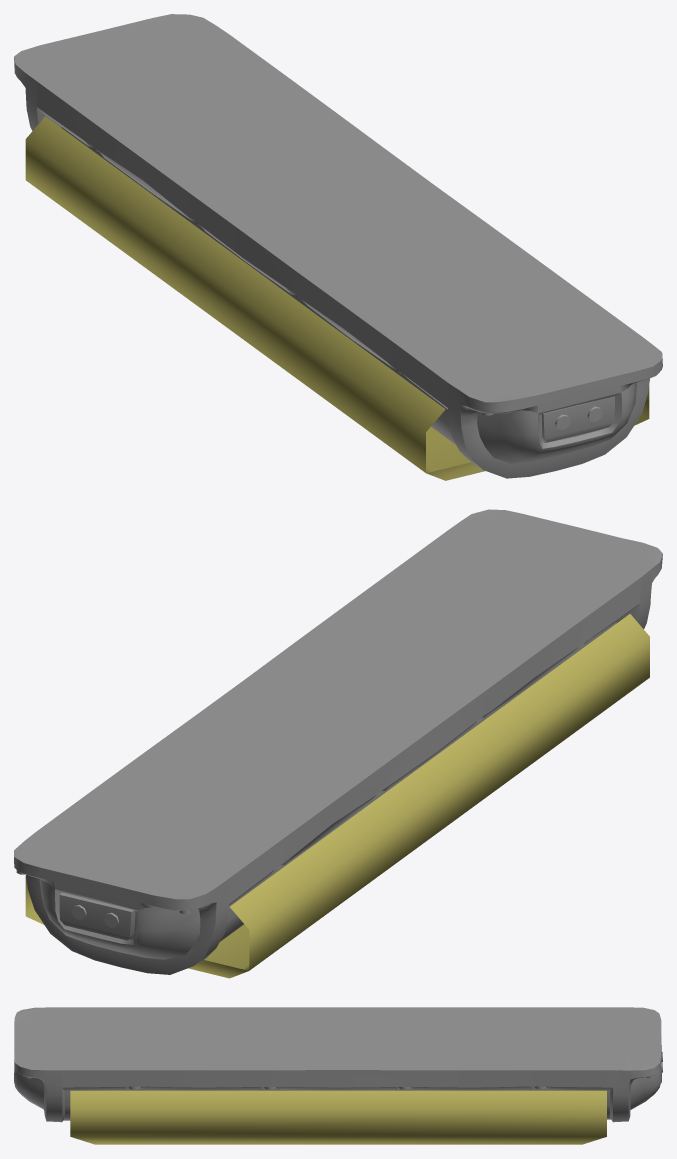
The model's file is Lamp_Ceiling_Scifi_A.fbx.
3 views of the same model, one above another, from view 1: azimuth 30°, elevation 25°; view 2: azimuth 150°, elevation 25°; view 3: azimuth 270°, elevation 25° (orthographic). The views are drawn at different scales.
Parts seen in each view (by area): view 1: Geom_Lamp_Ceiling_Scifi_A_Body_LOD00, Geom_Lamp_Ceiling_Scifi_A_Emissive_GI; view 2: Geom_Lamp_Ceiling_Scifi_A_Body_LOD00, Geom_Lamp_Ceiling_Scifi_A_Emissive_GI; view 3: Geom_Lamp_Ceiling_Scifi_A_Body_LOD00, Geom_Lamp_Ceiling_Scifi_A_Emissive_GI.
Boxes of the visible parts, x1,y1,x2,y2 form: Geom_Lamp_Ceiling_Scifi_A_Body_LOD00: (14, 14, 662, 478); Geom_Lamp_Ceiling_Scifi_A_Emissive_GI: (25, 116, 649, 480); Geom_Lamp_Ceiling_Scifi_A_Body_LOD00: (14, 509, 662, 974); Geom_Lamp_Ceiling_Scifi_A_Emissive_GI: (25, 614, 649, 978); Geom_Lamp_Ceiling_Scifi_A_Body_LOD00: (14, 1007, 662, 1122); Geom_Lamp_Ceiling_Scifi_A_Emissive_GI: (70, 1090, 606, 1144).
Size of what is drawn, in the model's own units: 86.96 by 45.76 by 327.
